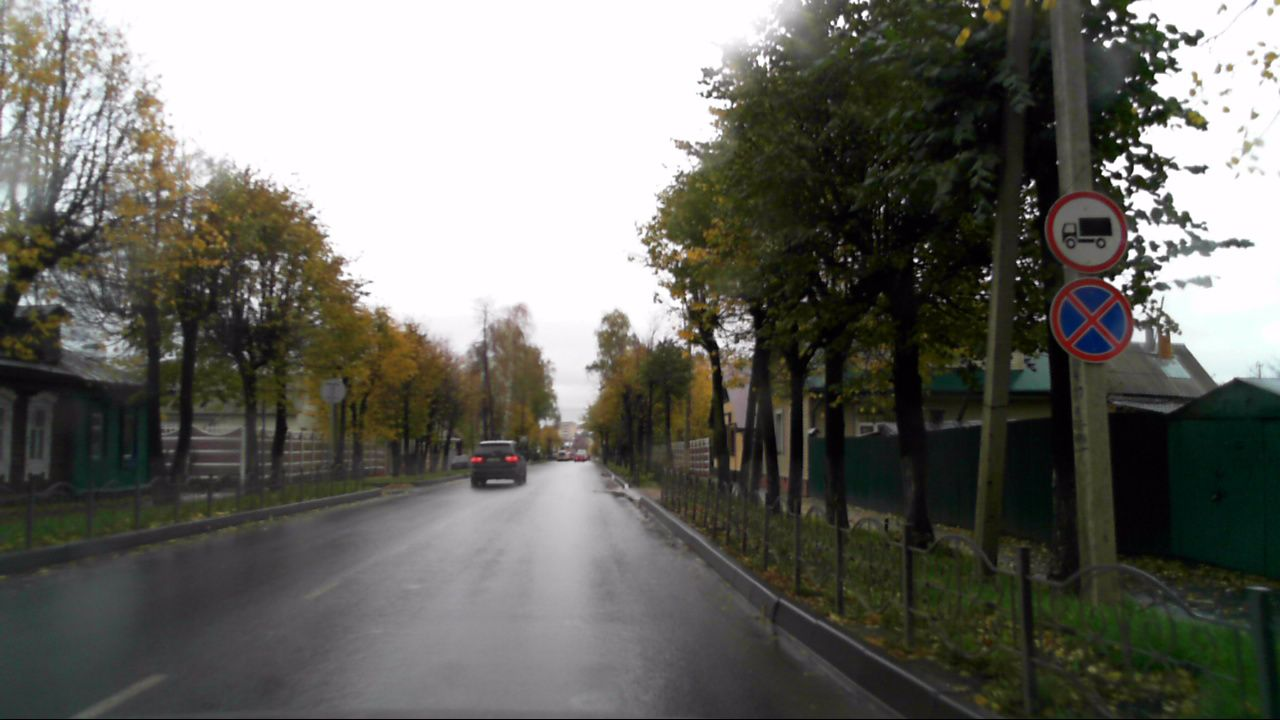No Parking: (1050, 279, 1132, 363)
